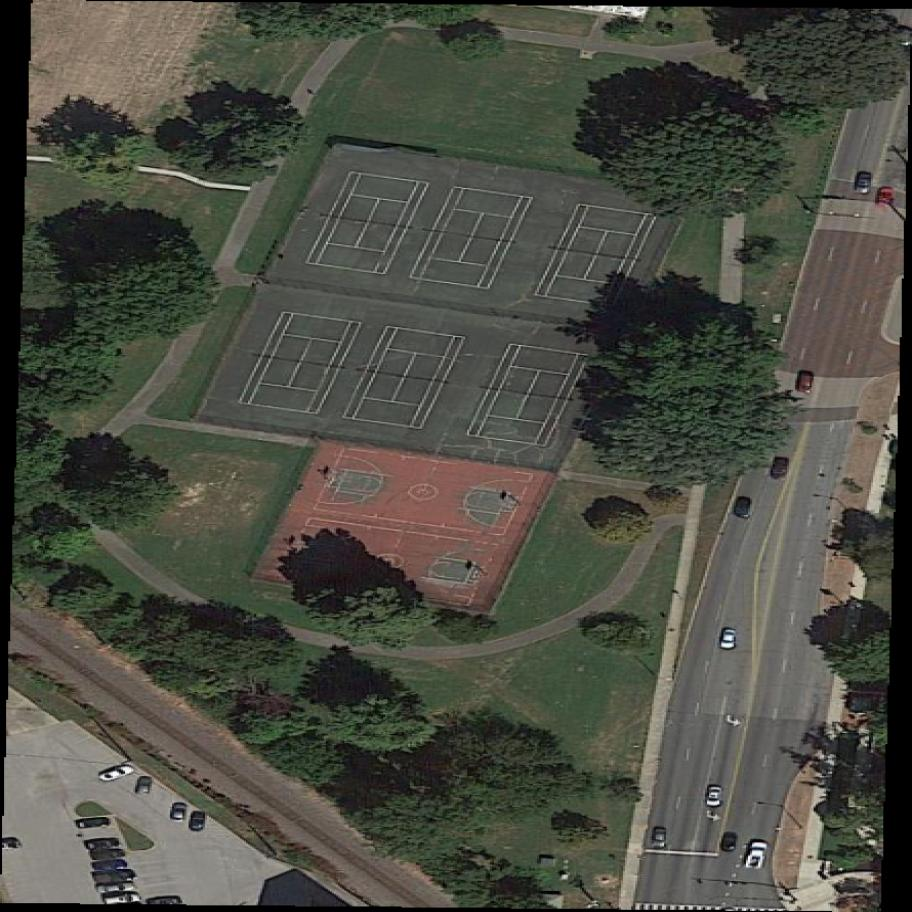small-vehicle: (744, 836, 773, 874), (94, 762, 137, 786), (728, 490, 756, 523), (94, 870, 137, 887), (131, 772, 156, 800), (96, 880, 139, 896), (90, 859, 131, 875), (851, 169, 875, 194), (168, 800, 191, 826), (92, 847, 127, 862), (705, 784, 726, 809), (795, 369, 814, 395), (86, 837, 123, 850), (719, 627, 738, 652), (773, 455, 791, 481), (650, 824, 668, 849), (877, 185, 897, 207), (721, 830, 740, 853), (78, 817, 111, 830), (191, 810, 207, 831)
